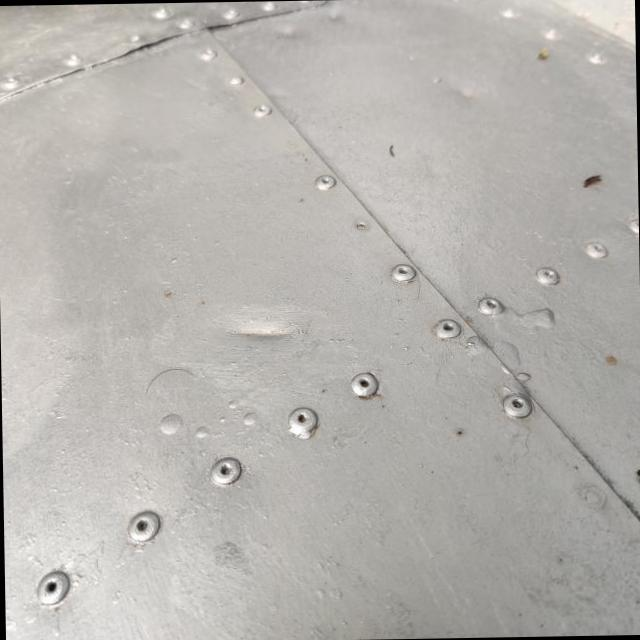Dent: (216, 279, 330, 384)
